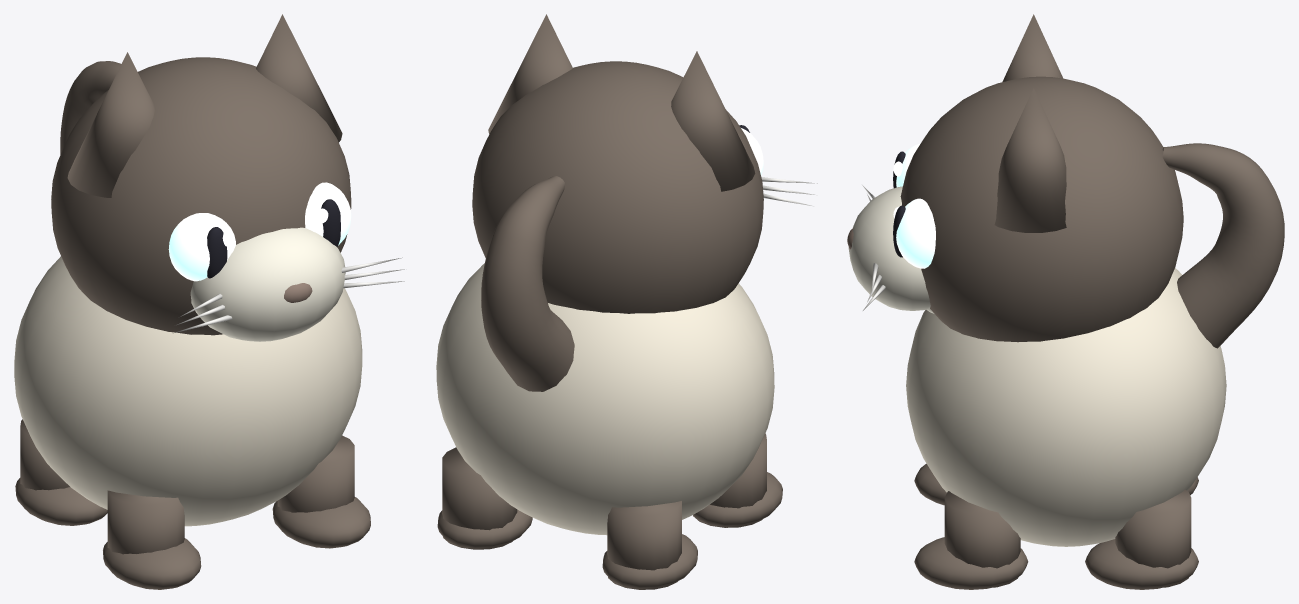
File: siamese_chatterbox.glb
3 renders of one model, left to right at view 1: azimuth 30°, elevation 25°; view 2: azimuth 150°, elevation 25°; view 3: azimuth 270°, elevation 25°, orthographic. The views are drawn at different scales.
Parts seen in each view (by area): view 1: siamese_chatterbox; view 2: siamese_chatterbox; view 3: siamese_chatterbox.
Boxes of the visible parts, x1=… form: siamese_chatterbox: x1=14, y1=14, x2=404, y2=589; siamese_chatterbox: x1=436, y1=14, x2=817, y2=589; siamese_chatterbox: x1=847, y1=14, x2=1284, y2=589.
Bounding box in the file's own units: 1.04 × 1.62 × 1.31.
